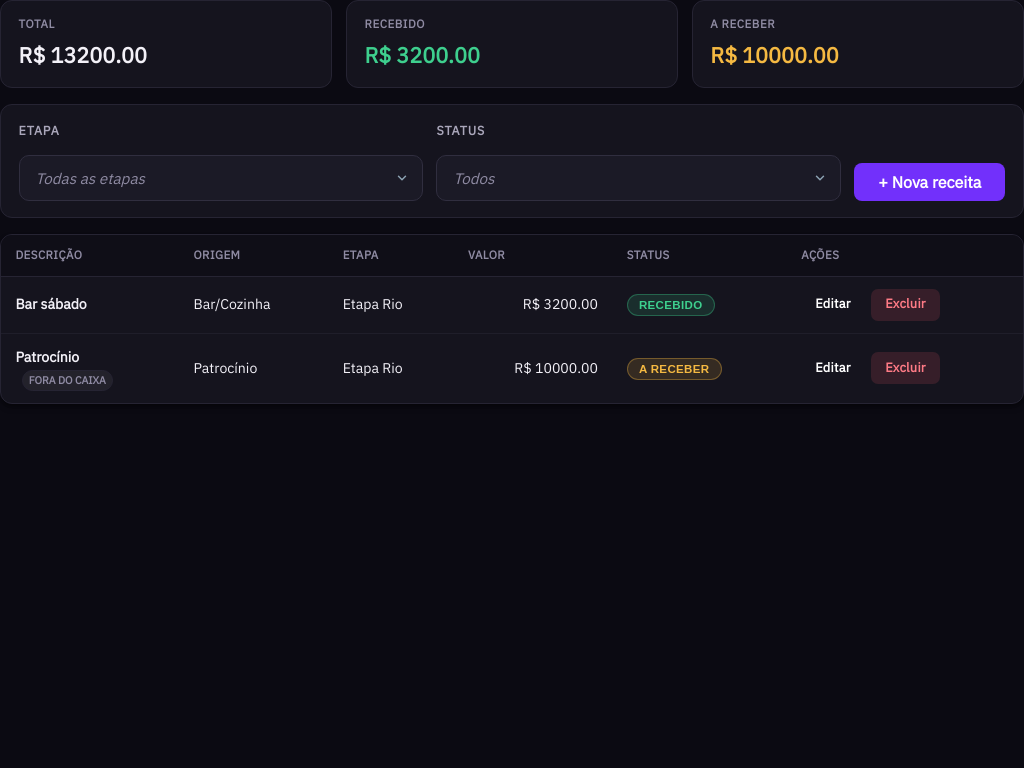
Test: criação › a origem tem sugestões mas o campo é livre
This screenshot has width=1024, height=768.
Expected: the row that starts with "Bar sábado" is shown, [1,276,1023,333]
Click the button "+ Nova receita". click: click(930, 182)
box: [854,163,1005,201]
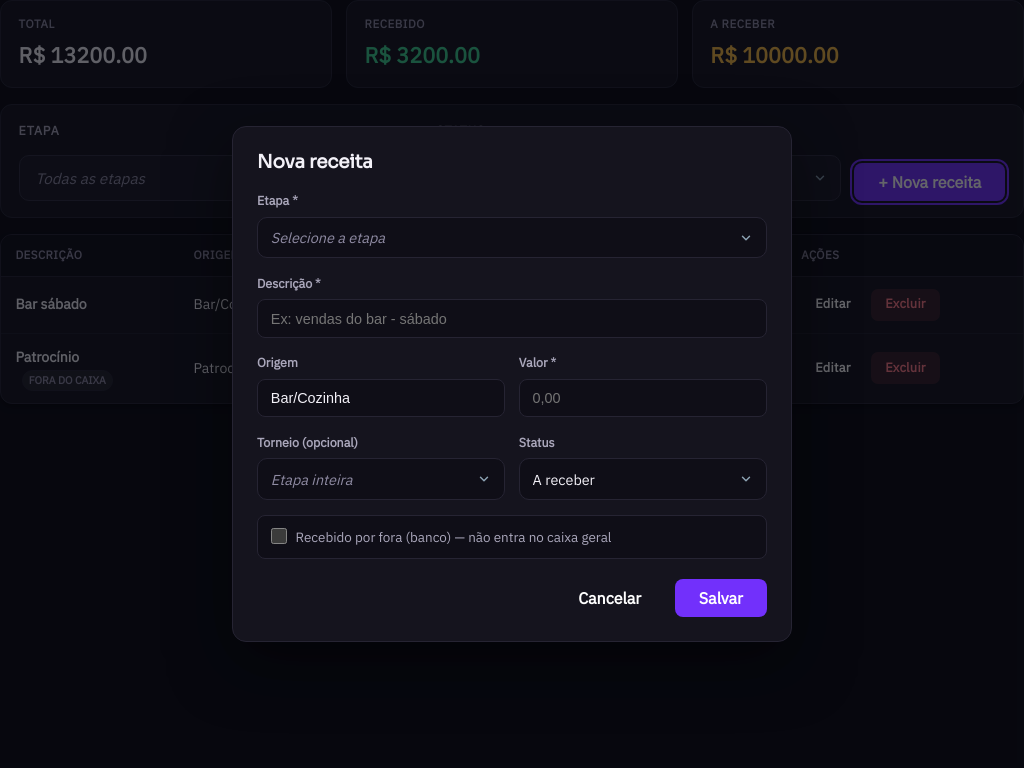
Now the dialog with class "exp-modal" is shown, box [232,126,792,642]
Now the 2nd field is shown, box [257,379,505,418]
